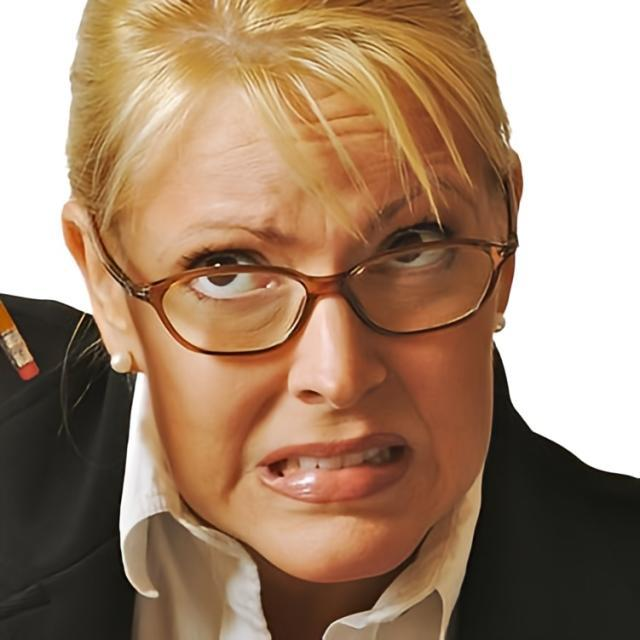disgust: (136, 62, 506, 584)
